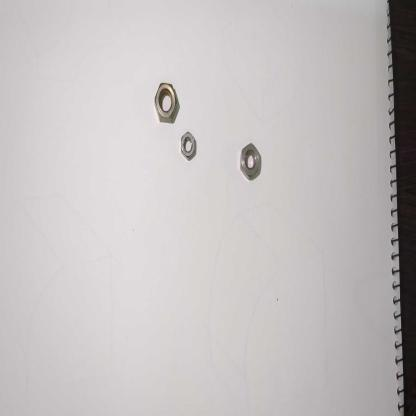NUTS: (152, 76, 180, 124), (238, 140, 267, 182), (180, 128, 200, 164)
